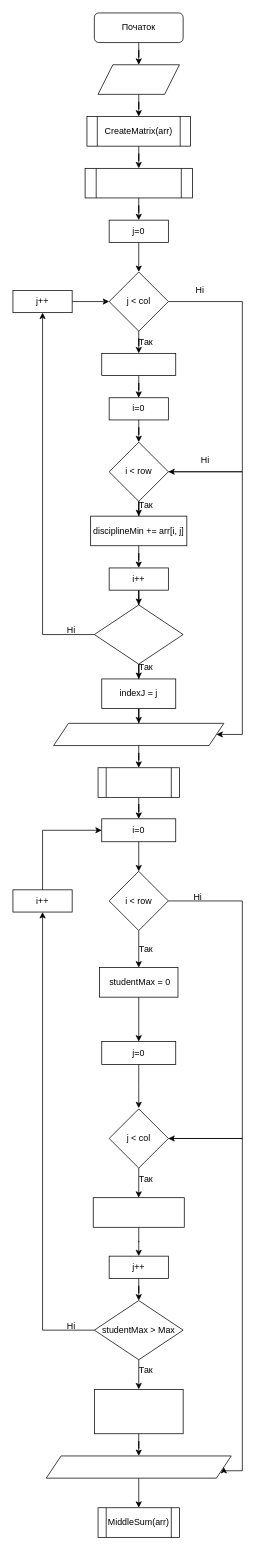
This 261x1550 diagram has some shape labels left out. Here are the shapes that lost their labels. From the top down, the box of each, then its label:
(97, 64, 179, 94): Введiть кінець діапазону
(84, 168, 192, 198): OutputMatrix(arr)
(101, 353, 176, 376): disciplineMin = 0
(94, 604, 183, 664): disciplineMin < Min
(53, 723, 224, 746): Найбiльш вiвдiдана дисциплiна № indexJ пропустили Min разiв
(97, 767, 179, 797): StudentMax(arr)
(92, 1197, 184, 1227): studentMax += arr[i, j]
(94, 1389, 183, 1434): Max = studentMax indexI = i
(46, 1455, 231, 1478): Студент № indexI який пропустив найбiльше занять, а саме Max
